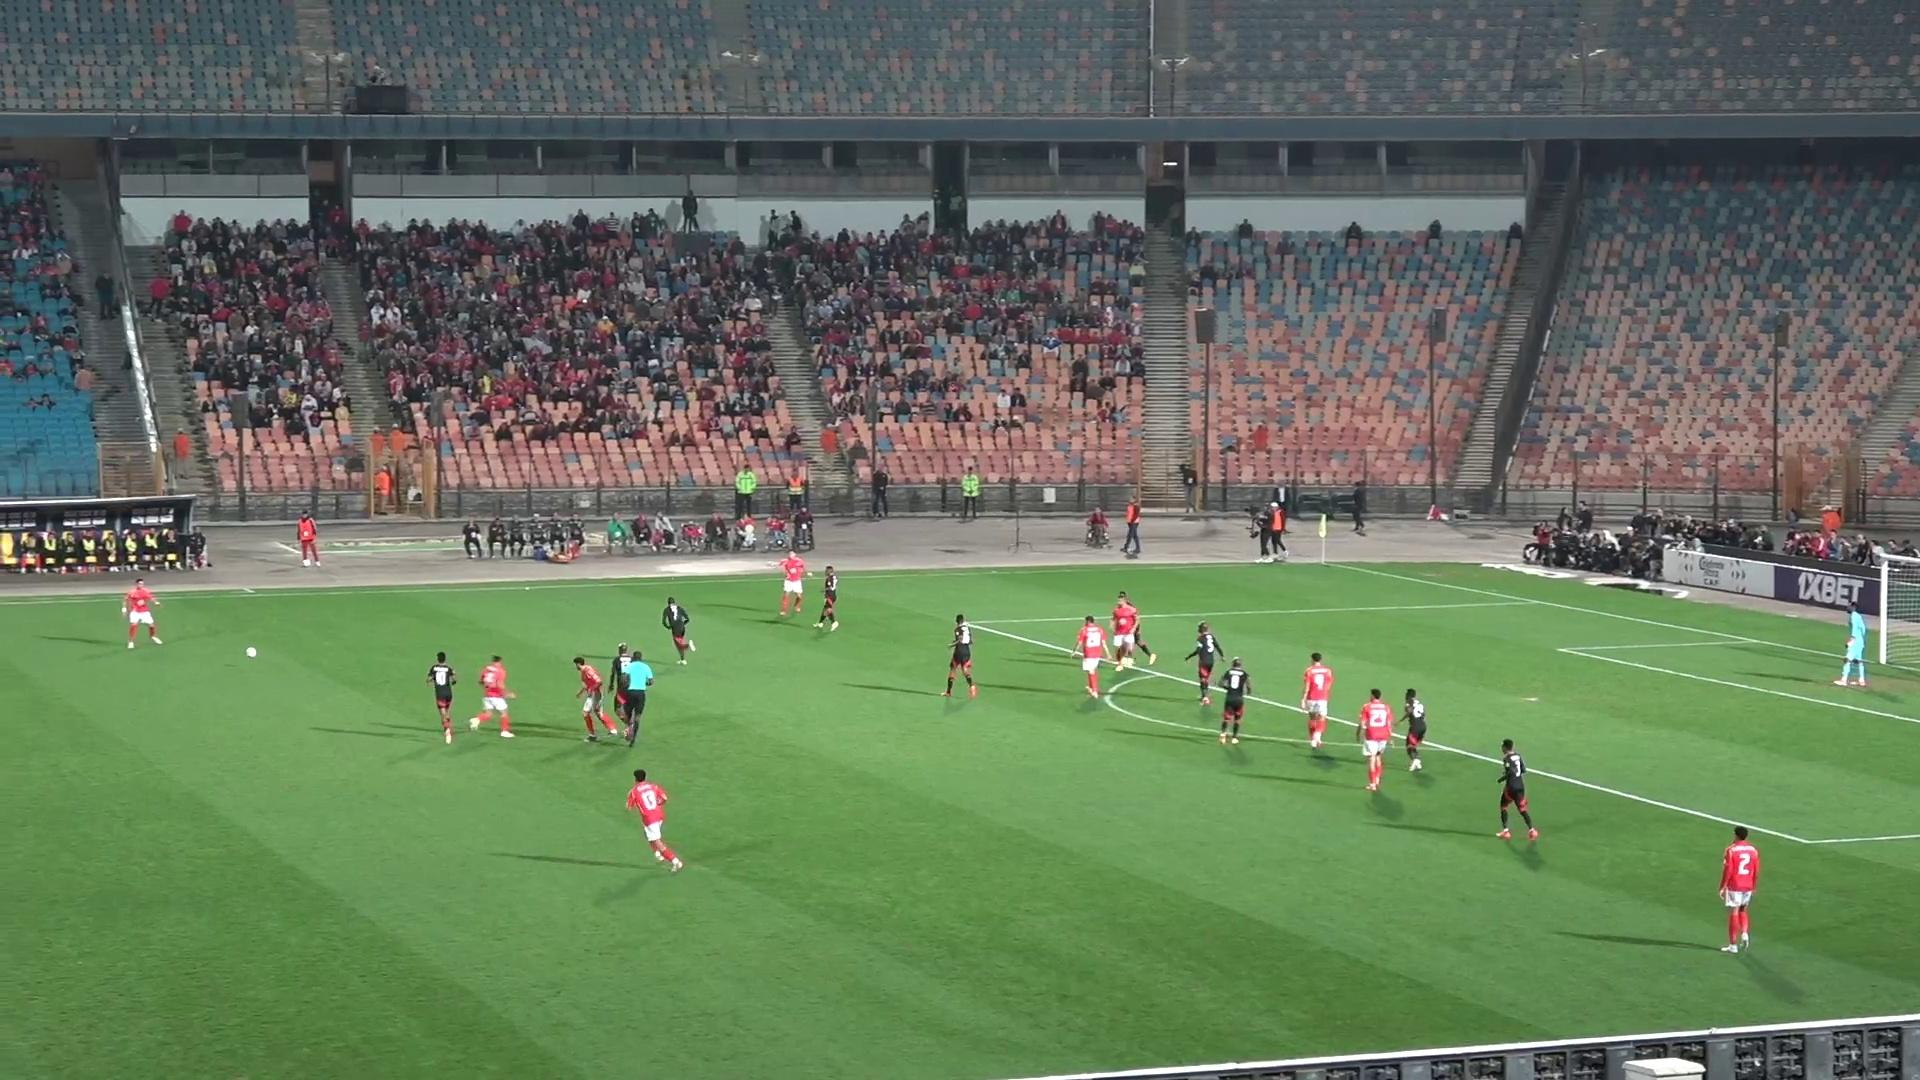Ball: (244, 647, 258, 659)
GK2: (1834, 600, 1869, 687)
Refree: (615, 646, 653, 745)
Team1: (626, 769, 683, 870), (1718, 825, 1760, 953), (1356, 688, 1395, 791), (469, 655, 516, 736), (574, 658, 616, 741), (1300, 651, 1333, 750), (1110, 593, 1151, 670), (1072, 615, 1109, 699), (123, 579, 161, 647), (778, 551, 808, 617)
Team2: (1497, 738, 1539, 841), (1185, 621, 1222, 708), (942, 615, 978, 699), (426, 651, 458, 742), (1218, 658, 1251, 742), (659, 596, 695, 665), (1404, 688, 1427, 771), (812, 566, 839, 632)
